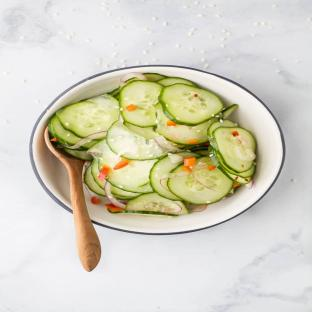Cucumber: (89, 140, 157, 192), (168, 157, 233, 204), (57, 94, 119, 137), (159, 84, 222, 125), (156, 104, 217, 144), (150, 152, 199, 200), (107, 121, 167, 160), (120, 81, 163, 127), (213, 127, 255, 173), (210, 150, 254, 184), (126, 193, 188, 214), (211, 149, 255, 178), (49, 116, 81, 146), (84, 166, 105, 196), (124, 122, 158, 139), (108, 209, 178, 217), (207, 120, 236, 137), (90, 160, 106, 190), (64, 148, 92, 161), (158, 78, 195, 86), (221, 105, 238, 118), (144, 73, 166, 81), (109, 87, 120, 97), (195, 149, 209, 155), (126, 78, 140, 83), (114, 93, 119, 100)
